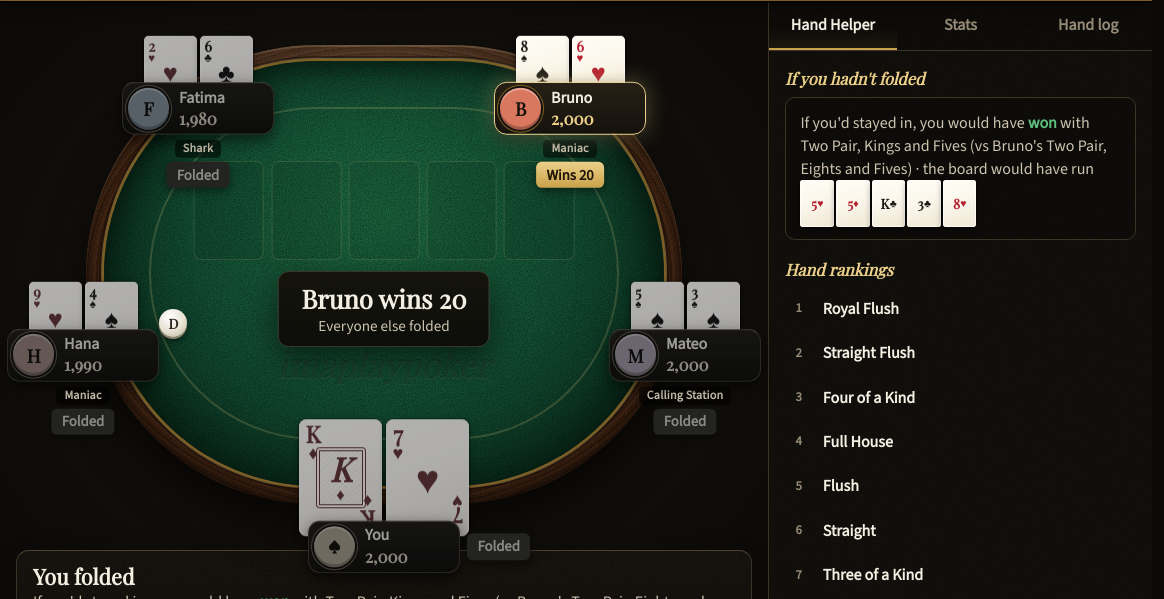
Test case: UI renders › shows what-if stats after you fold and reveals cards when everyone folds
(page scrolled)
Click the tab "Hand log". click: (1088, 25)
box: [1024,1,1152,50]
(page scrolled)
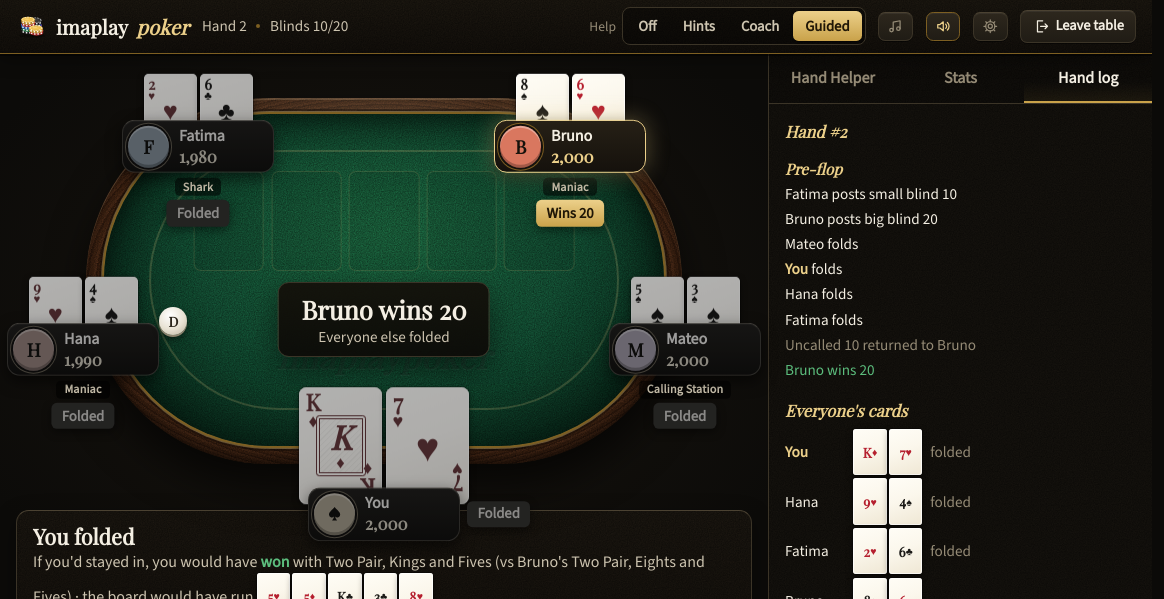
Expected: the text "Everyone's cards" is shown, [785,399,907,421]
